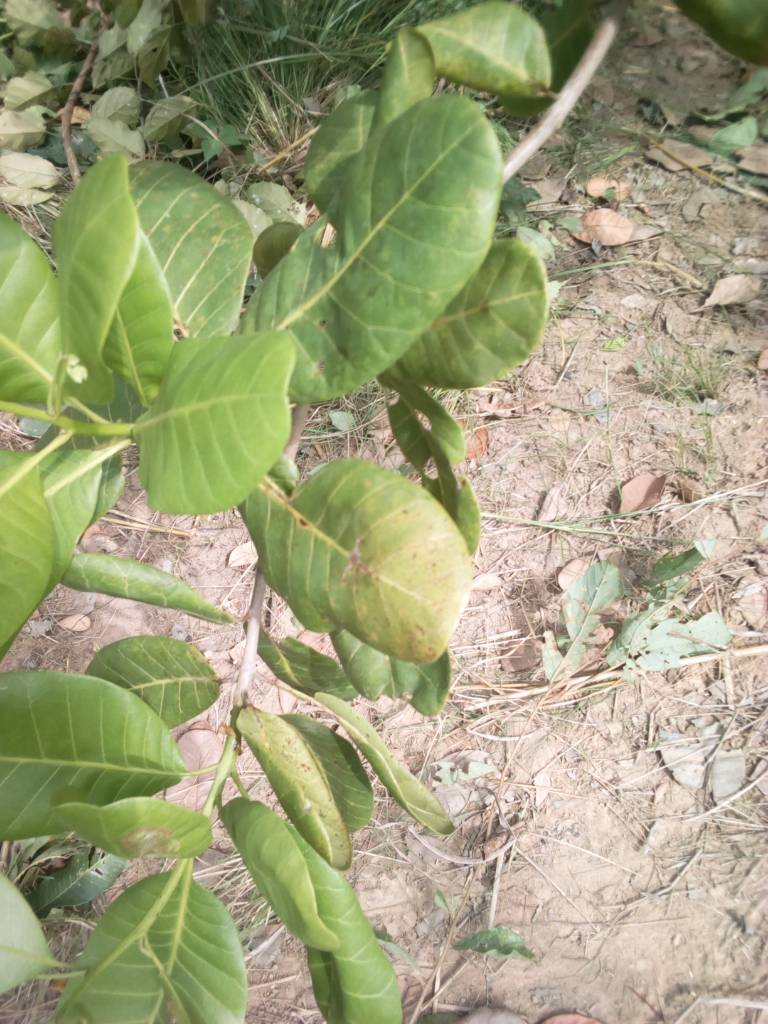Anthracnose: (263, 452, 472, 672), (236, 696, 355, 875)
